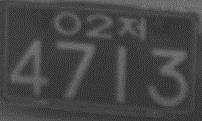0: (52, 9, 81, 37)
1: (104, 45, 140, 103)
2: (85, 12, 113, 40)
3: (148, 46, 189, 108)
4: (9, 39, 48, 96)
7: (55, 40, 97, 98)
저: (116, 14, 146, 41)
